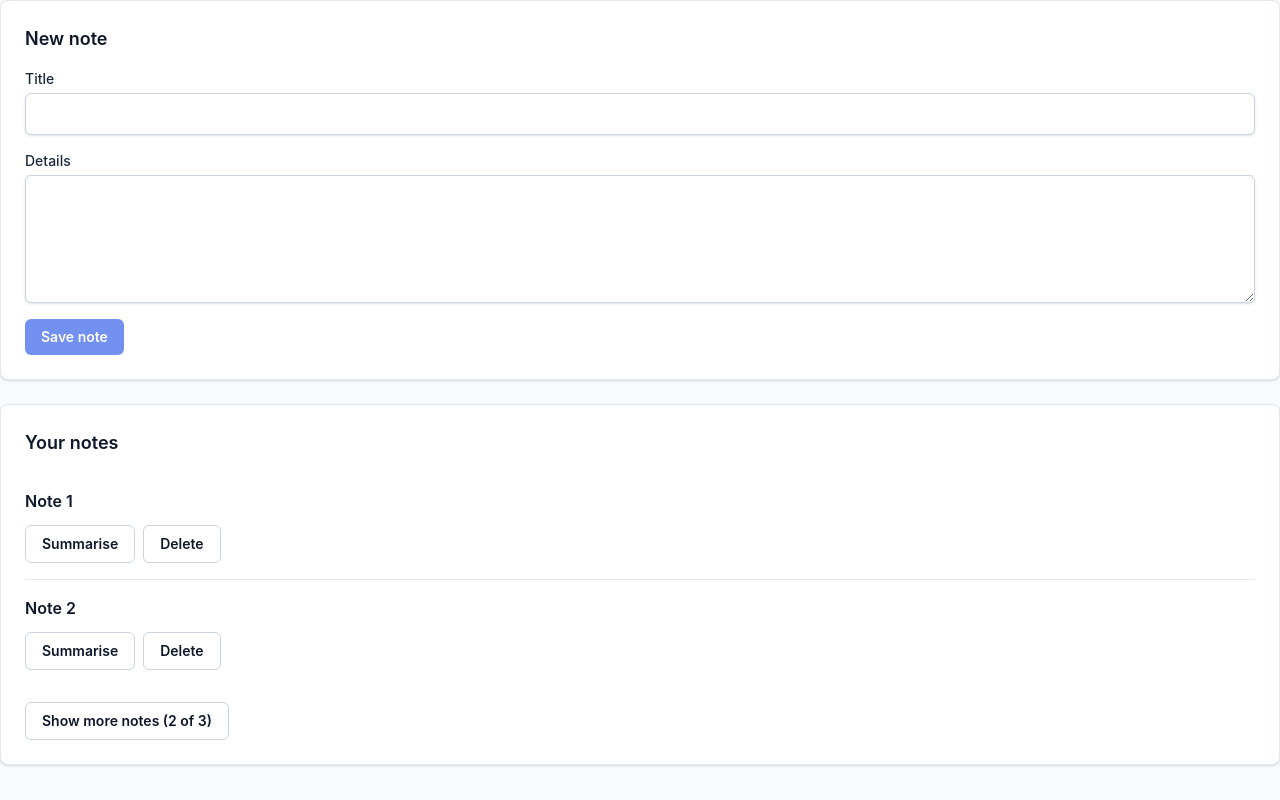
Test: Dashboard notes list (T-86) › drops a load-more response that started before the list was reloaded
Expected: the heading "Note 2" is shown, top-left (25, 598), bottom-right (76, 618)
Click the button "Show more notes (2 of 3)" at [127, 721], box top-left (25, 702), bottom-right (229, 740)
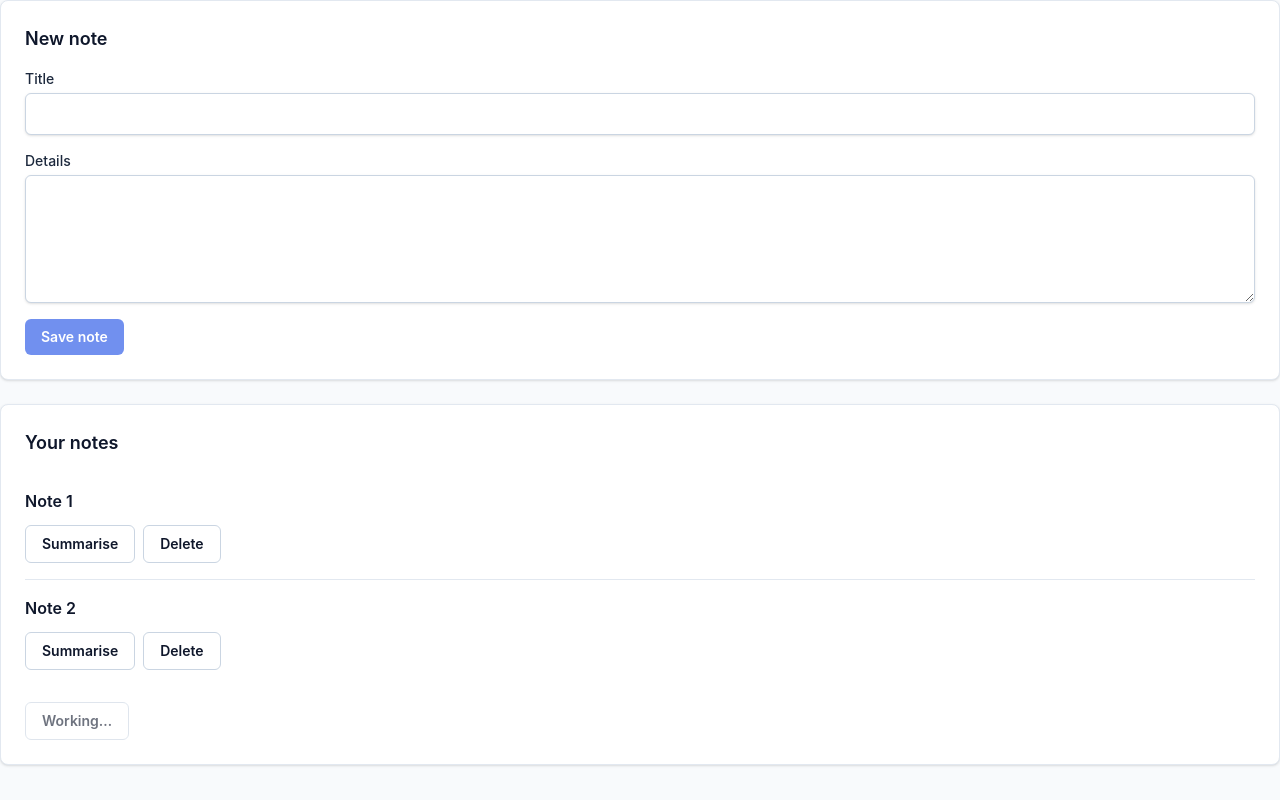
Type "Fresh" into the field labelled "Title" at [640, 114], box top-left (25, 93), bottom-right (1255, 135)
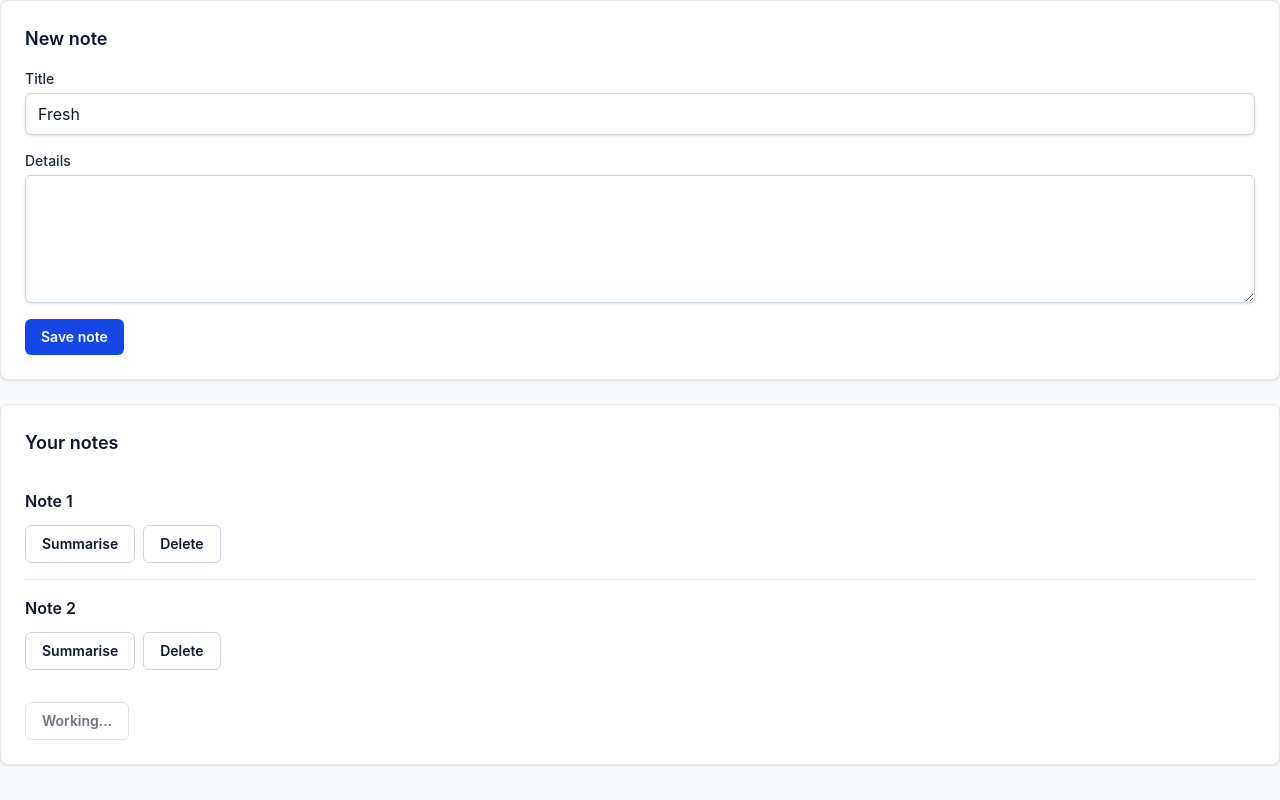
Click the button "Save note" at [74, 337], box top-left (25, 319), bottom-right (124, 355)
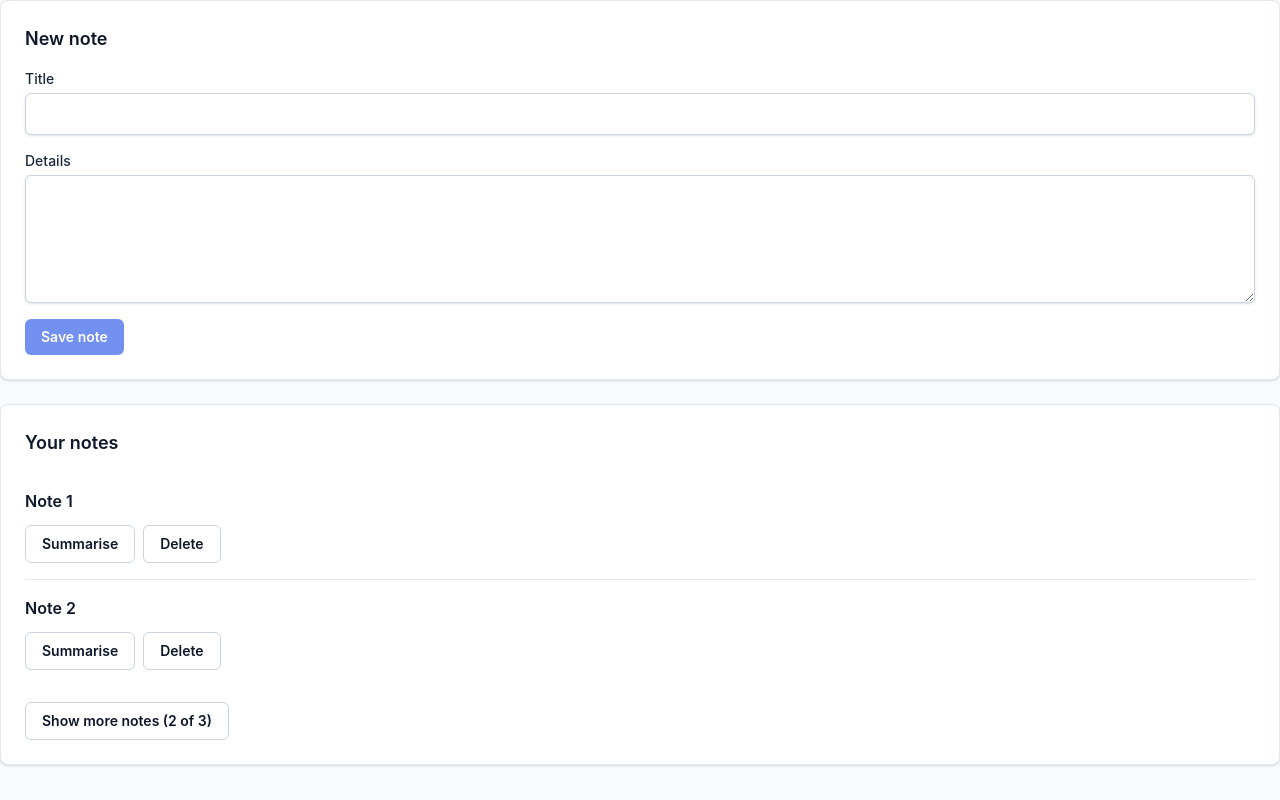
Now the field labelled "Title" is empty, box top-left (25, 93), bottom-right (1255, 135)
Now the button "Show more notes (2 of 3)" is shown, box top-left (25, 702), bottom-right (229, 740)
